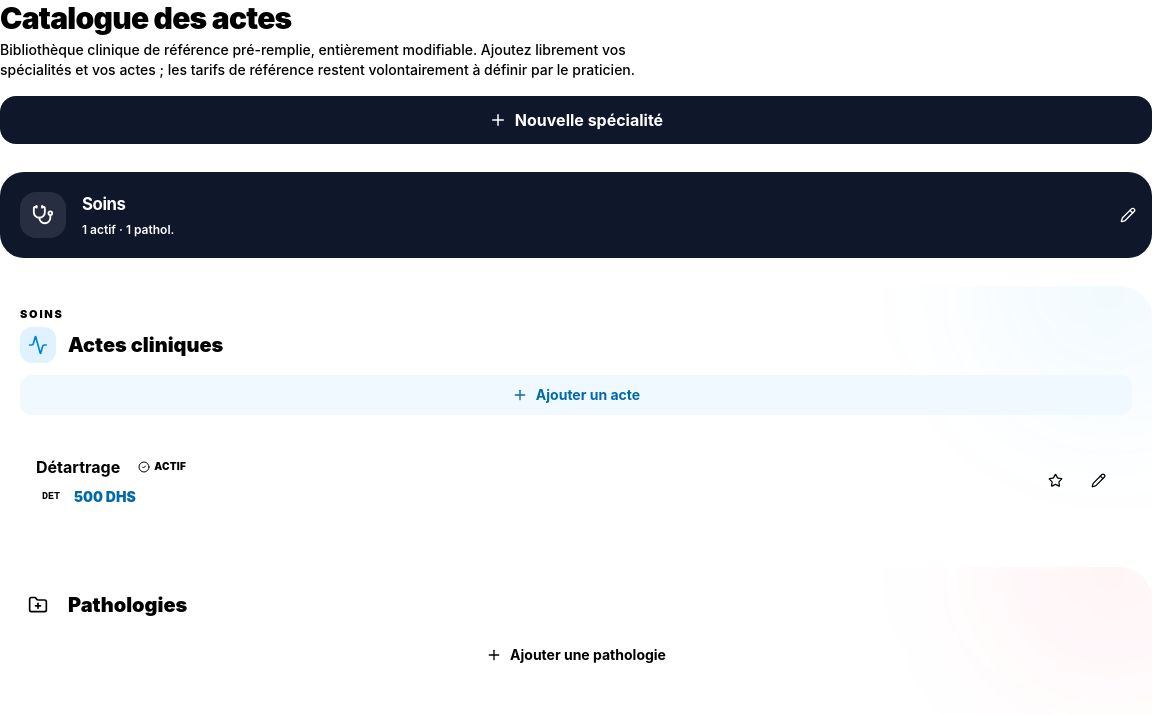
it: CatalogTab G5 interactive matrix › blocks an invalid negative act tariff before store mutation
The image size is (1152, 714).
Click the button "Ajouter un acte".
click(576, 394)  # box left=20, top=374, right=1132, bottom=414
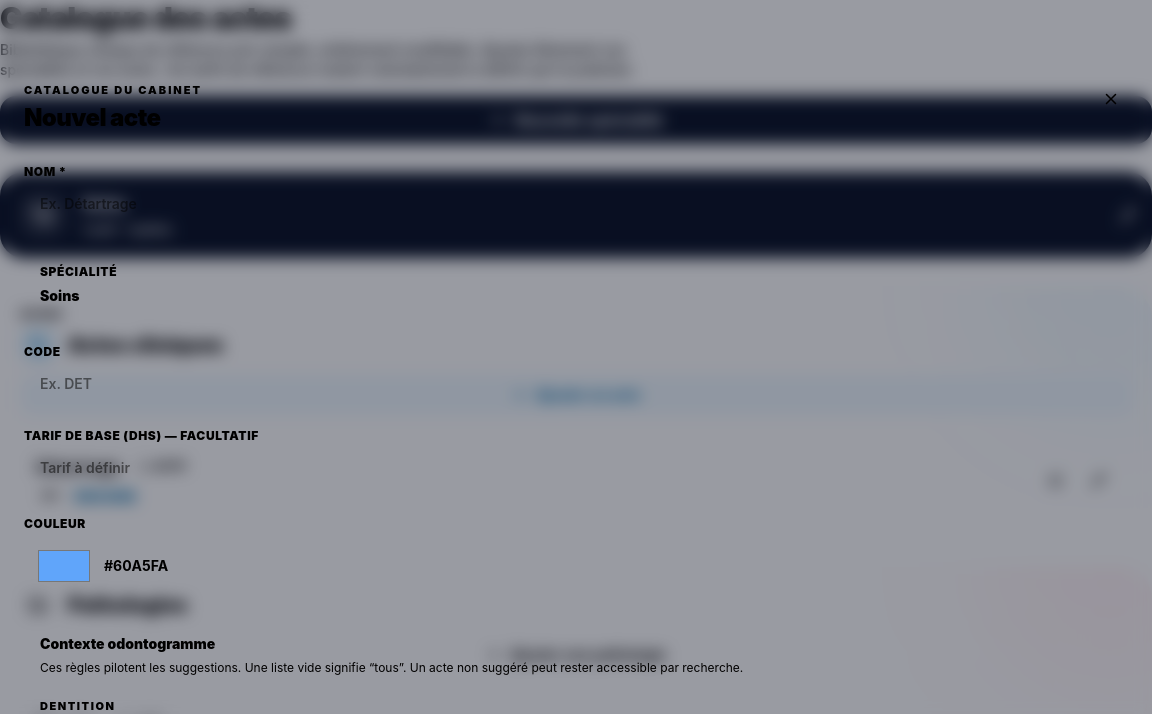
Type "Consultation" into the field with placeholder "Ex. Détartrage".
click(576, 204); type("Consultation")  # box left=24, top=182, right=1128, bottom=226
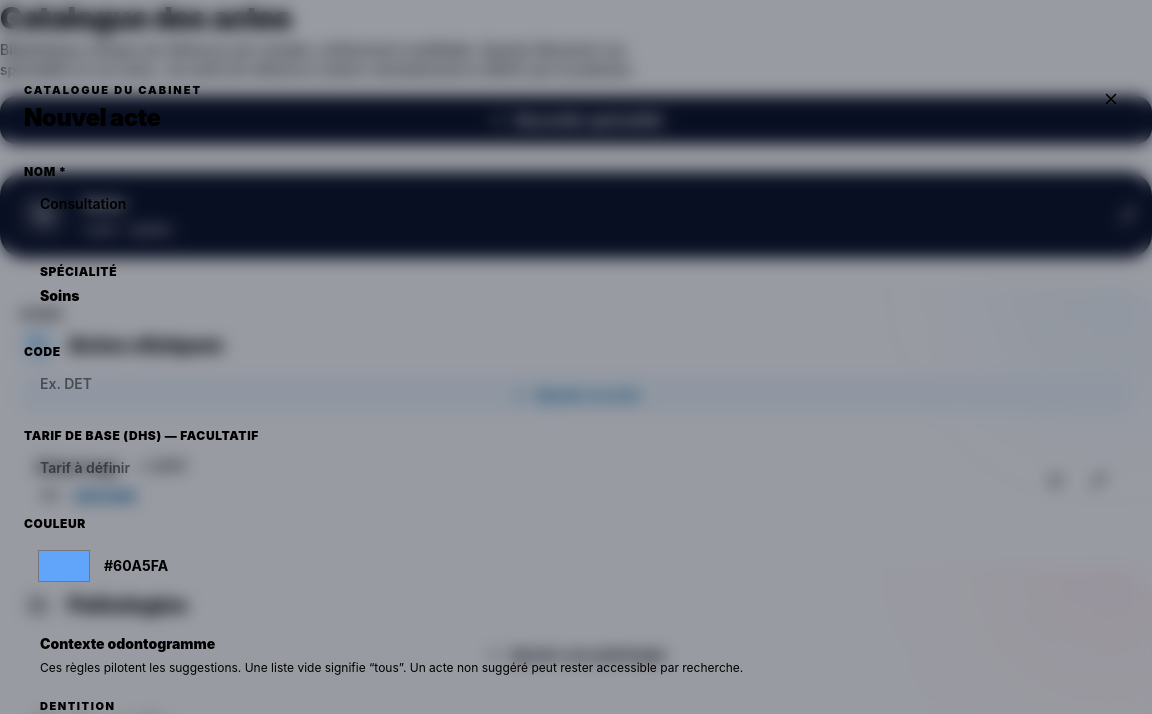
Type "-20" into the field with placeholder "Tarif à définir".
click(576, 468); type("-20")  # box left=24, top=446, right=1128, bottom=490
(page scrolled)
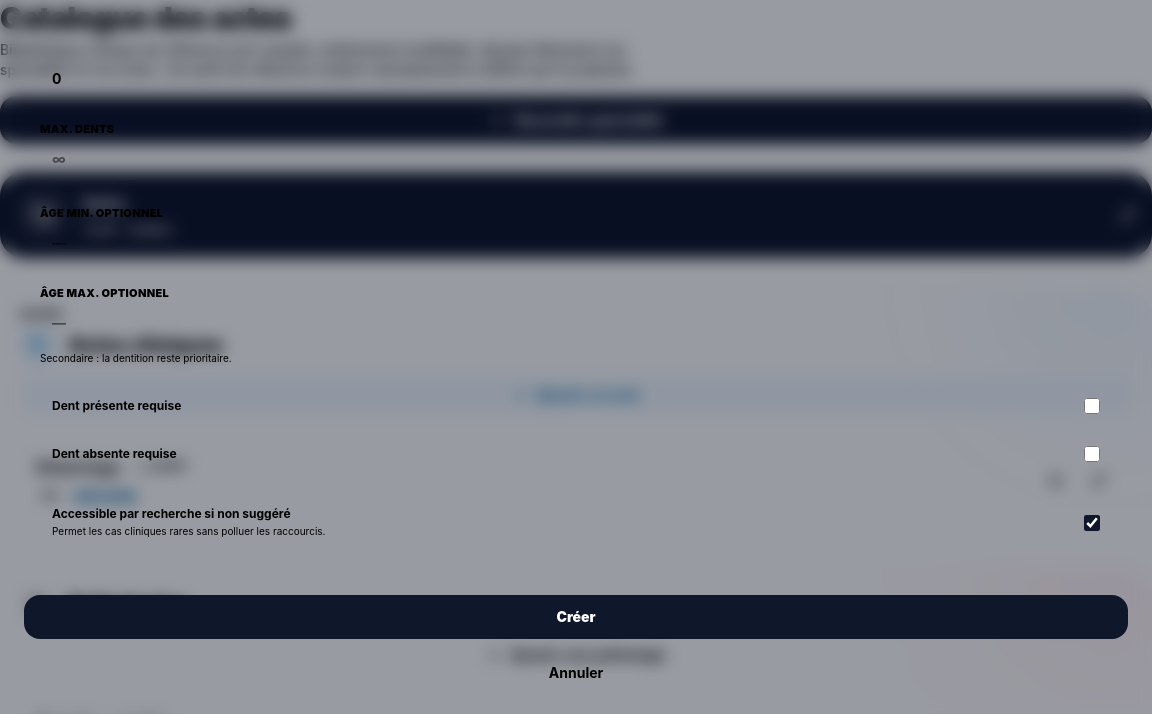
Click the button "Créer".
click(576, 617)  # box left=24, top=595, right=1128, bottom=639
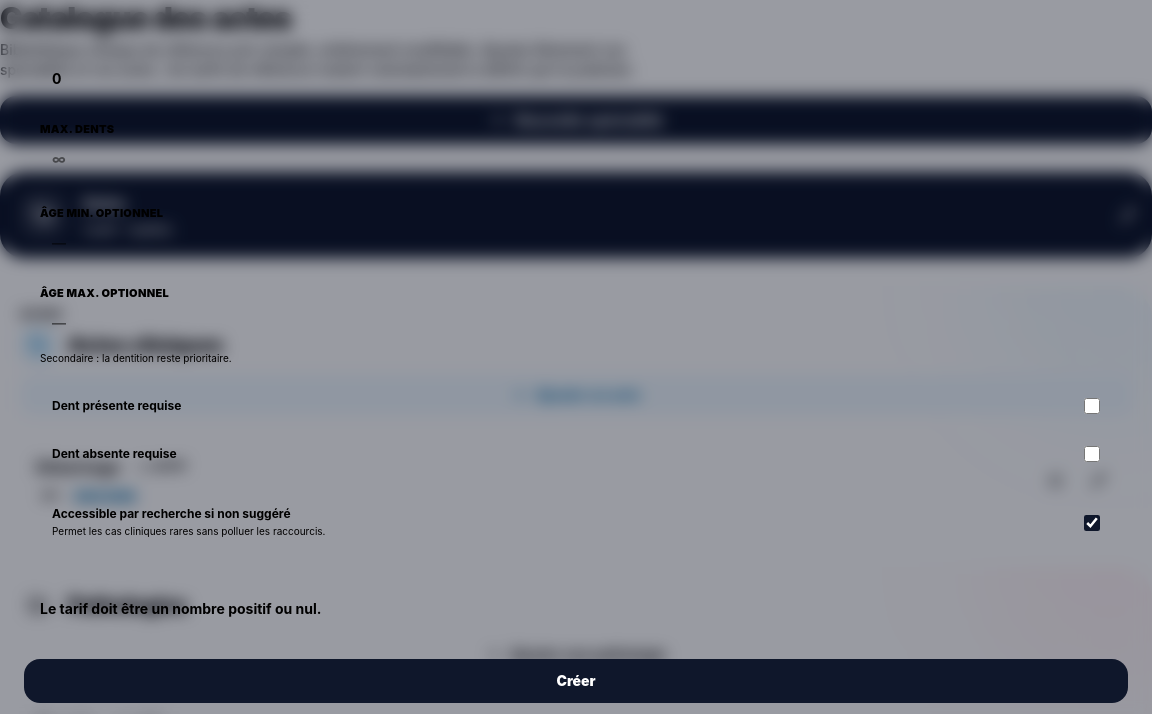
expect the text "Le tarif doit être un nombre positif ou nul." is shown: met, box left=40, top=600, right=322, bottom=617
